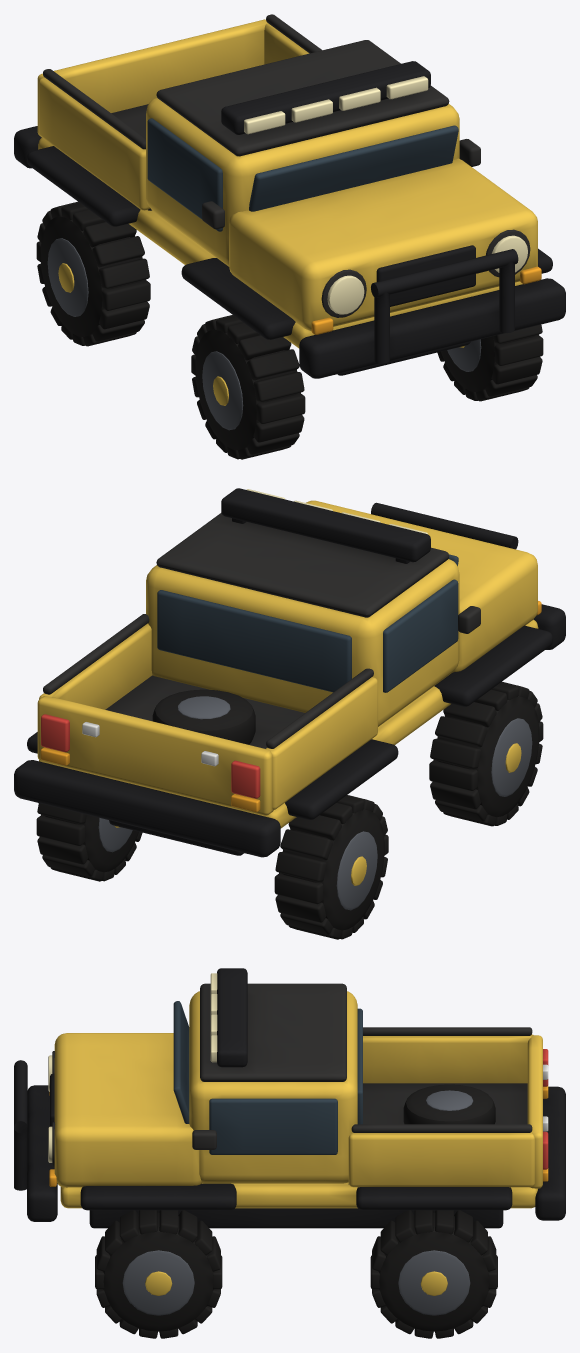
File: truck.glb
The picture shows the model from 3 angles, top to bottom: view 1: azimuth 30°, elevation 25°; view 2: azimuth 150°, elevation 25°; view 3: azimuth 270°, elevation 25°; orthographic projection. The views are drawn at different scales.
Visible parts, largest first — view 1: hood, wheel-front-right, roof, wheel-back-right, cab, bumperF, tailgate, windshield, bedside, wheel-front-left, sidewin, barbase (+19 smaller); view 2: cab, roof, tailgate, wheel-front-right, wheel-back-right, rearwindow, bumperB, hood, bedside, barbase, wheel-back-left, sidewin (+14 smaller); view 3: hood, wheel-front-left, wheel-back-left, roof, cab, bedside.001, bedside, sidewin.001, frame, sill, fender.002, fender.003 (+14 smaller).
Part boxes in pixels (<box>): hood: <box>229,158,537,331</box>; wheel-front-right: <box>191,315,305,459</box>; roof: <box>156,40,449,156</box>; wheel-back-right: <box>36,201,150,346</box>; cab: <box>146,98,459,266</box>; bumperF: <box>299,278,565,378</box>; tailgate: <box>37,19,267,137</box>; windshield: <box>249,125,458,211</box>; bedside: <box>39,77,149,210</box>; wheel-front-left: <box>437,324,543,401</box>; sidewin: <box>147,118,222,231</box>; barbase: <box>221,61,430,134</box>; cab: <box>146,559,459,726</box>; roof: <box>156,512,449,617</box>; tailgate: <box>37,696,273,815</box>; wheel-front-right: <box>429,682,543,826</box>; wheel-back-right: <box>274,795,388,939</box>; rearwindow: <box>157,590,351,692</box>; bumperB: <box>14,760,280,857</box>; hood: <box>306,500,537,672</box>; bedside: <box>266,677,377,809</box>; barbase: <box>221,488,430,562</box>; wheel-back-left: <box>36,803,142,881</box>; sidewin: <box>383,579,458,692</box>; hood: <box>54,1033,201,1187</box>; wheel-front-left: <box>95,1210,222,1338</box>; wheel-back-left: <box>370,1210,497,1338</box>; roof: <box>200,983,346,1081</box>; cab: <box>189,991,357,1183</box>; bedside.001: <box>348,1132,534,1187</box>; bedside: <box>363,1034,533,1083</box>; sidewin.001: <box>209,1098,337,1154</box>; frame: <box>89,1208,503,1228</box>; sill: <box>60,1182,537,1208</box>; fender.002: <box>80,1183,236,1210</box>; fender.003: <box>356,1187,512,1210</box>.
Size of the model in its own units: 1.98 by 1.94 by 3.6.
